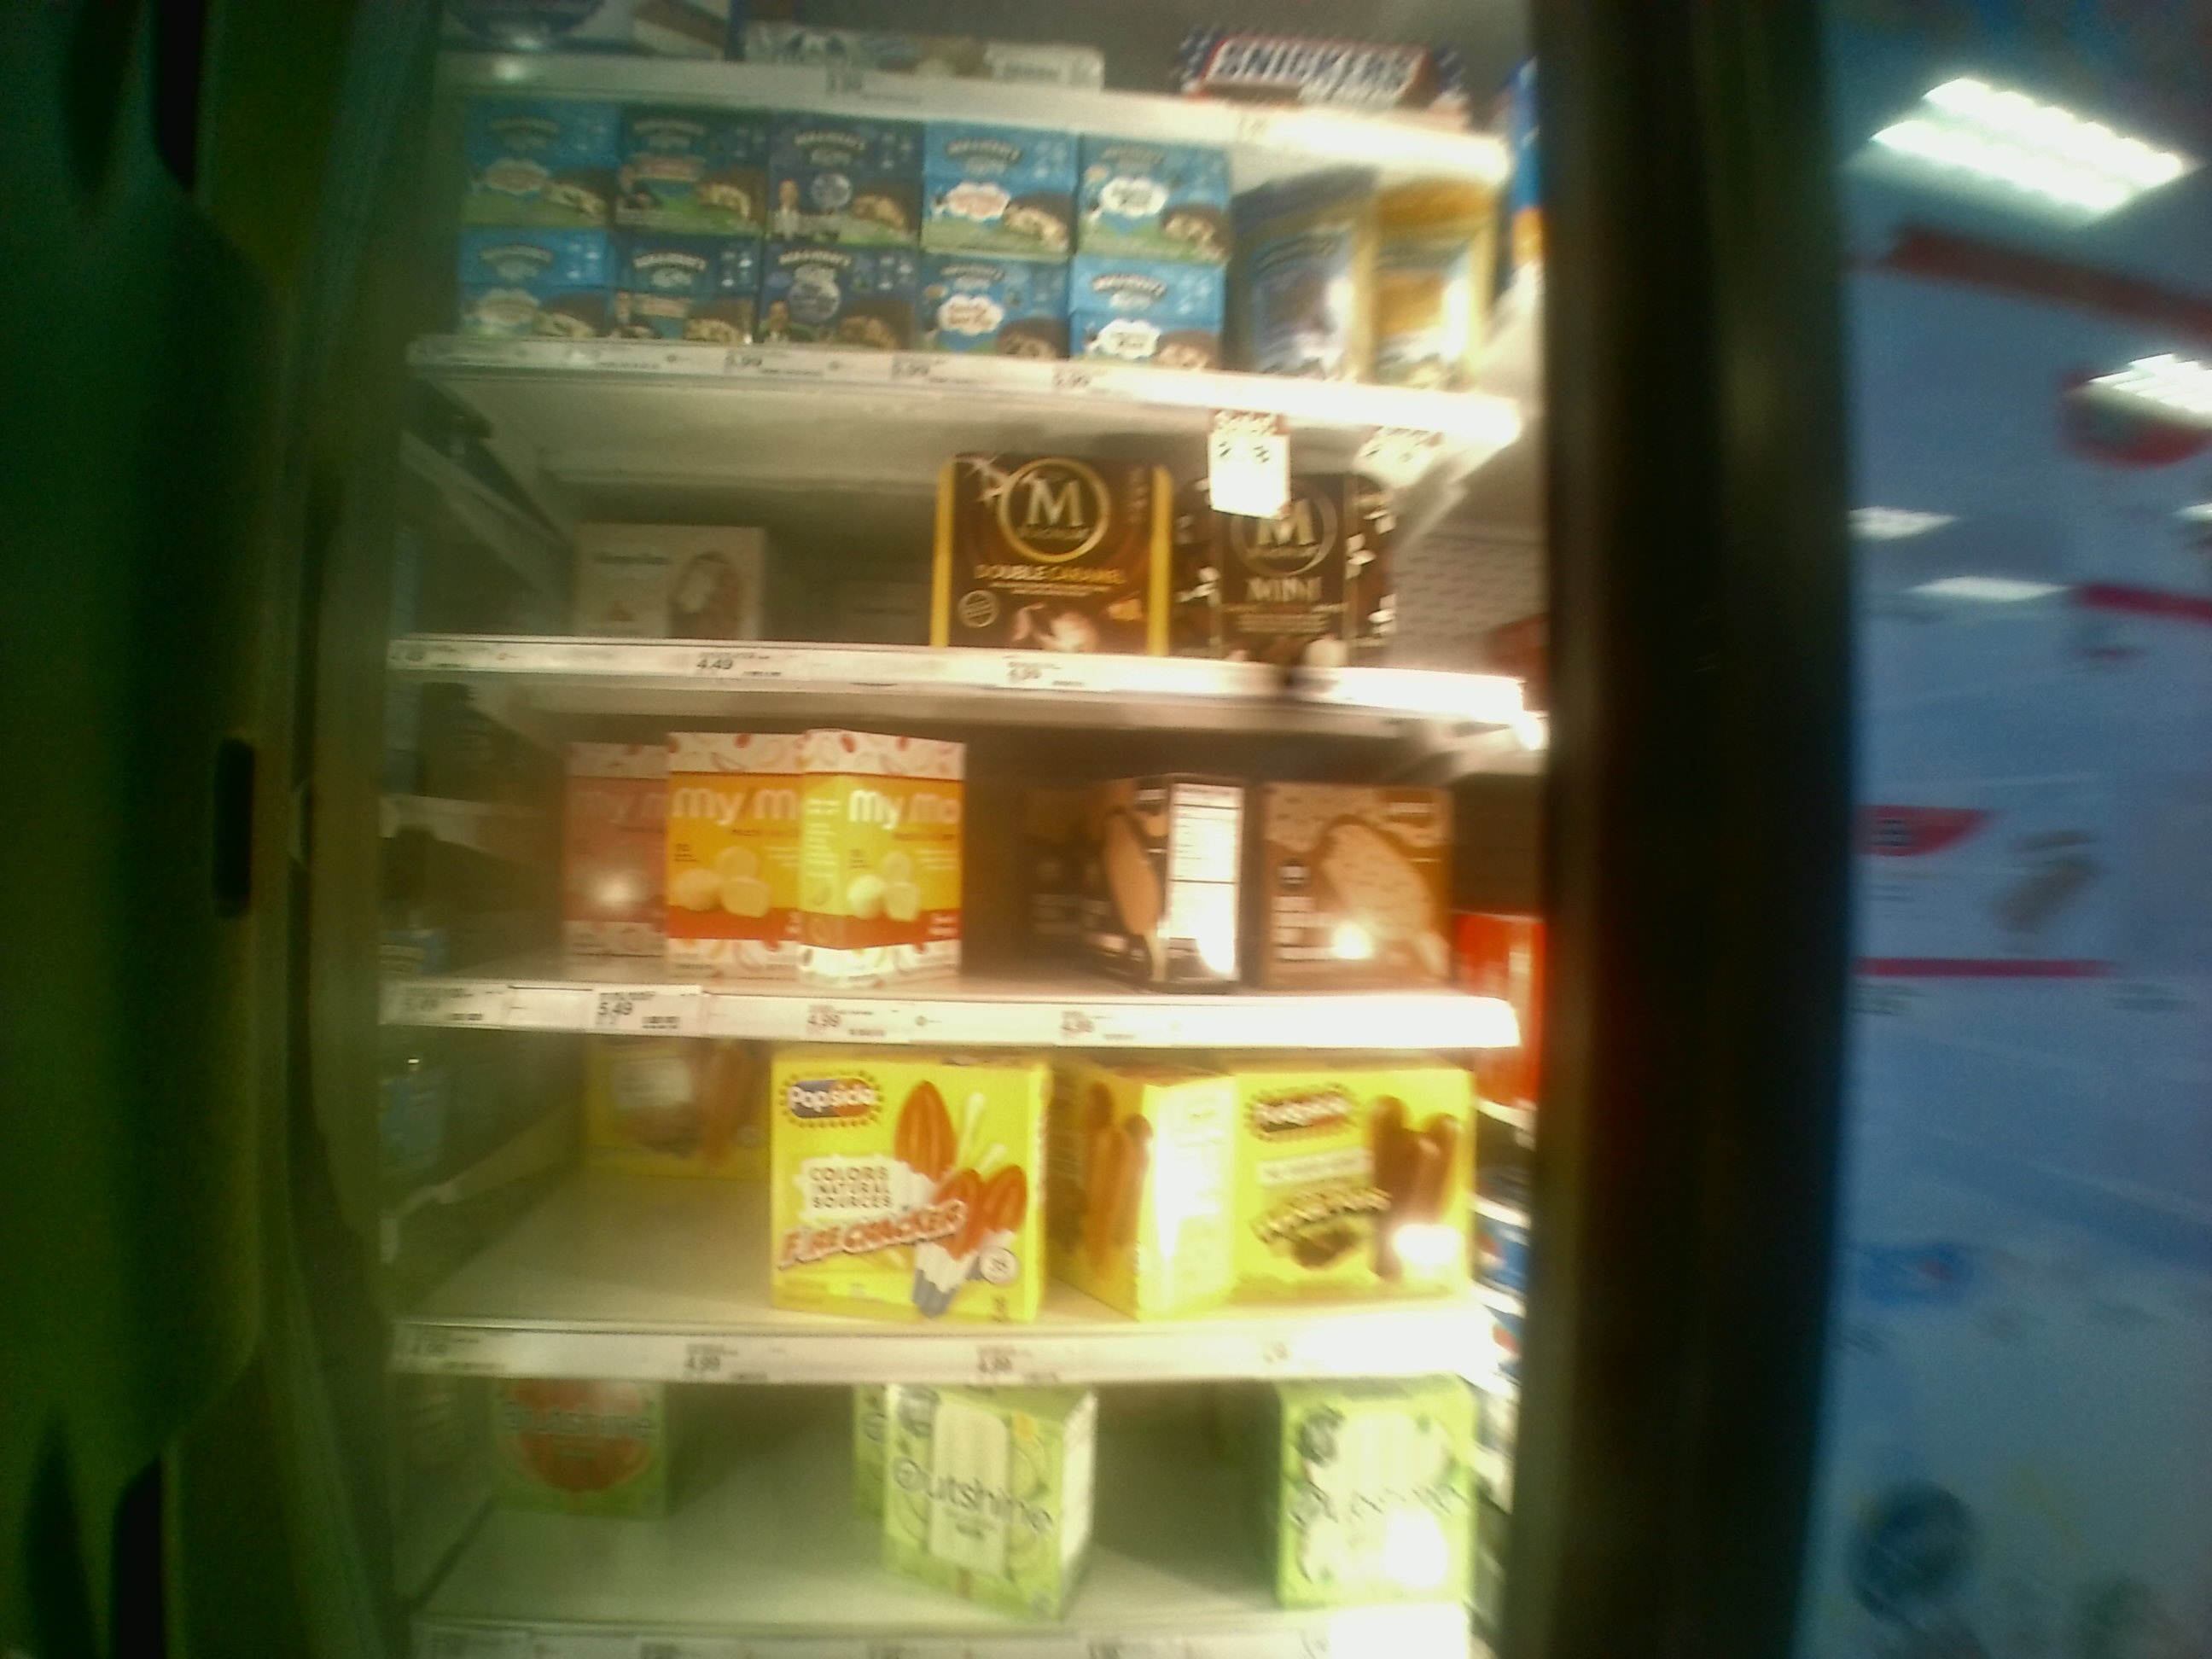ice-cream-shelf: (364, 687, 1566, 1049), (381, 1047, 1550, 1377), (383, 368, 1545, 678)
